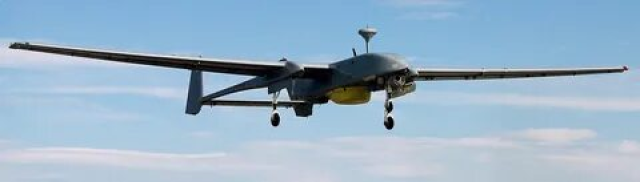military drone: (8, 23, 627, 130)
